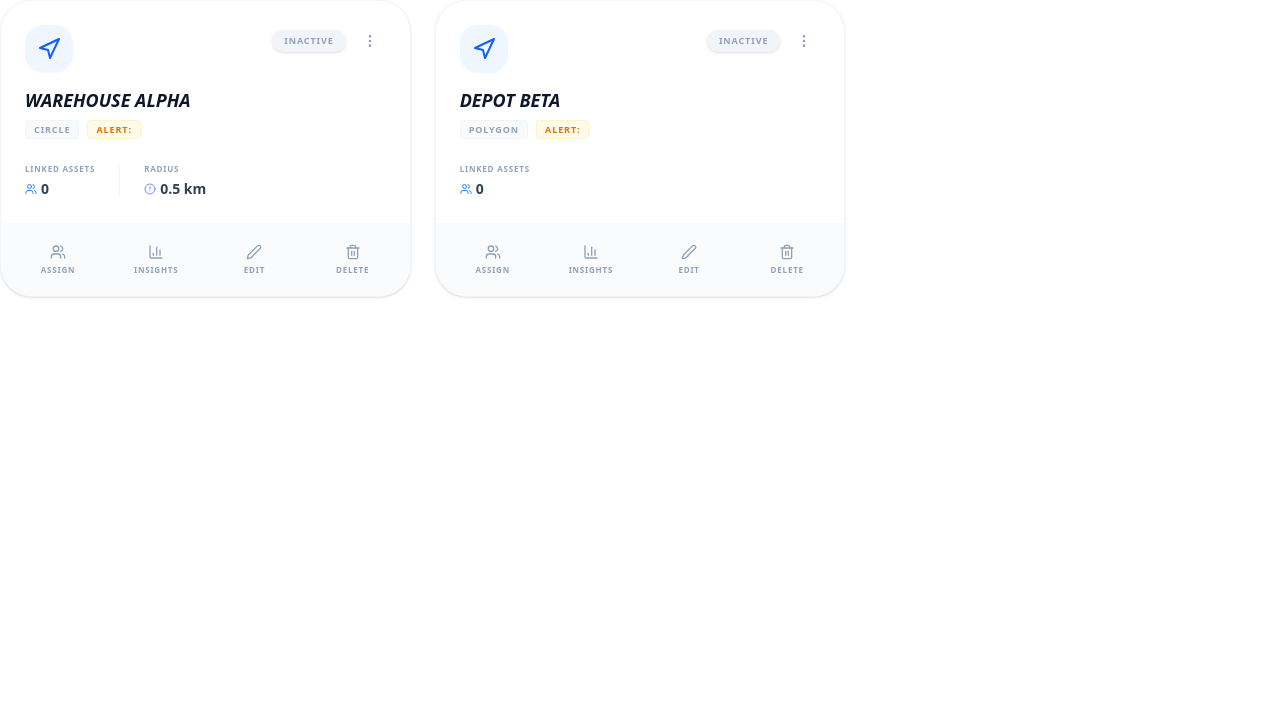
GeofenceList › shows delete confirmation dialog when DELETE is clicked
The width and height of the screenshot is (1280, 720).
Expected: the heading "Warehouse Alpha" is shown, [25,88,191,112]
Click the button titled "Delete geofence" below "0.5" at [353, 260], box [308,236,398,284]
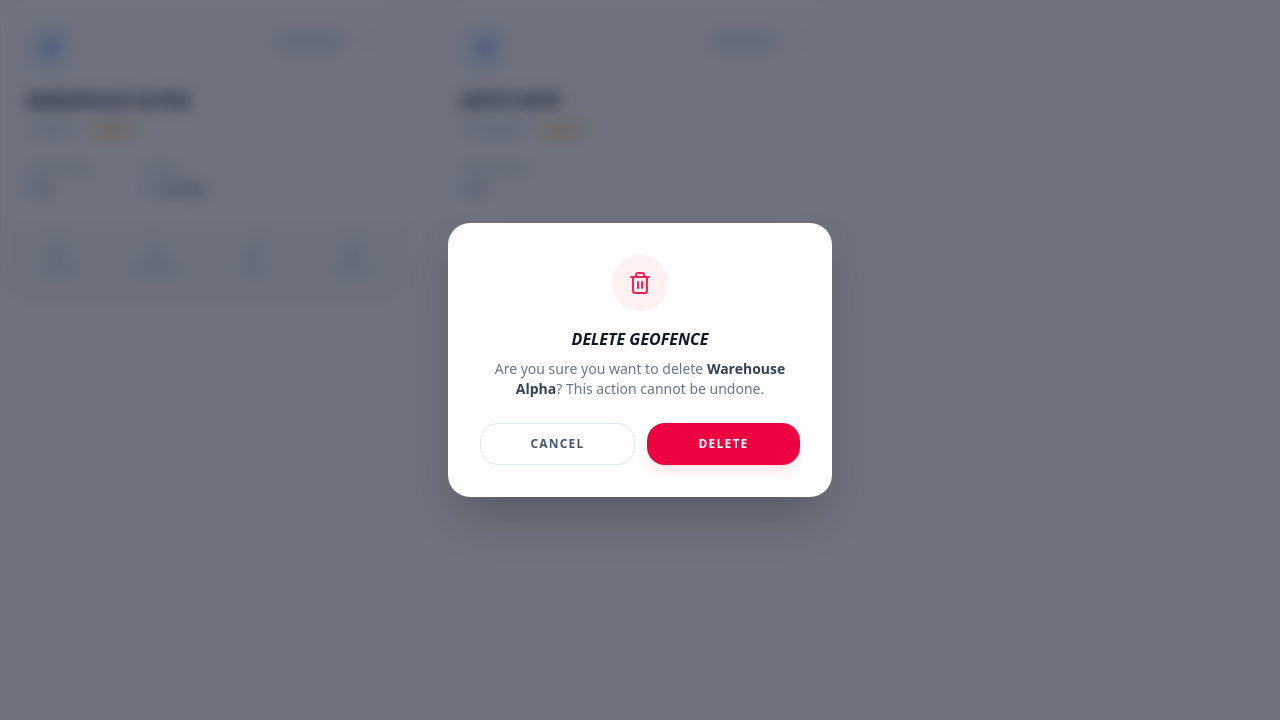
Expected: the heading "Delete Geofence" is shown, [572,328,708,350]
Expected: the text "Are you sure" is shown, [495,359,707,378]
